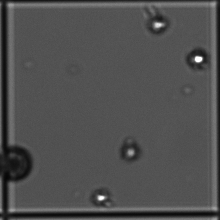Dead Cell: (1, 139, 34, 185)
Living Cell: (140, 7, 173, 39), (113, 136, 141, 161), (81, 186, 112, 207), (188, 46, 205, 74)
